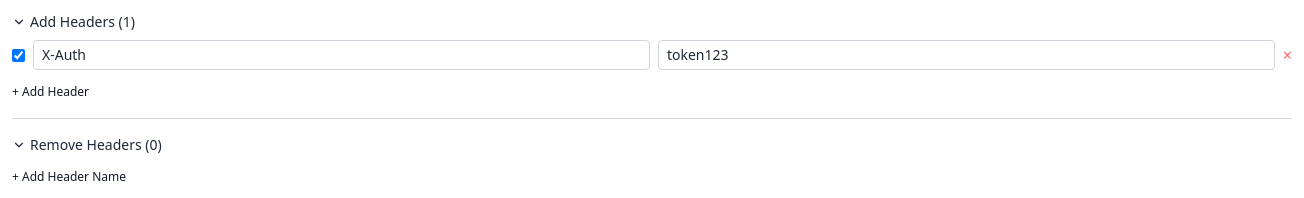
Test case: MappingHeadersEditor › Collapsible sections › toggles Add Headers section
Expected: the field with test id "add-header-key-0" is shown, x1=33 y1=40 x2=650 y2=70
Step 1. Click the button with test id "add-headers-toggle" → (76, 22), box x1=12 y1=12 x2=1292 y2=32
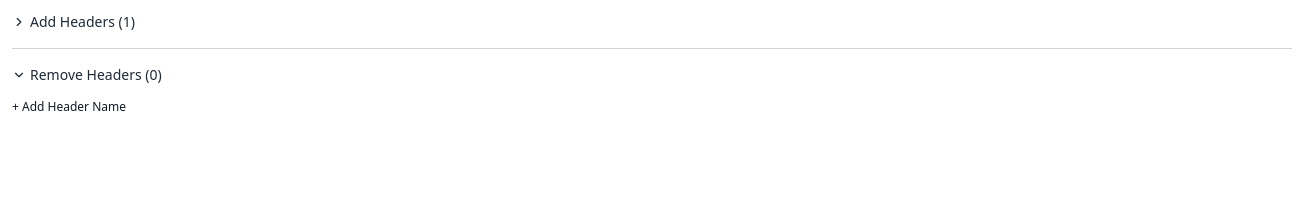
Expected: the field with test id "add-header-key-0" is gone
